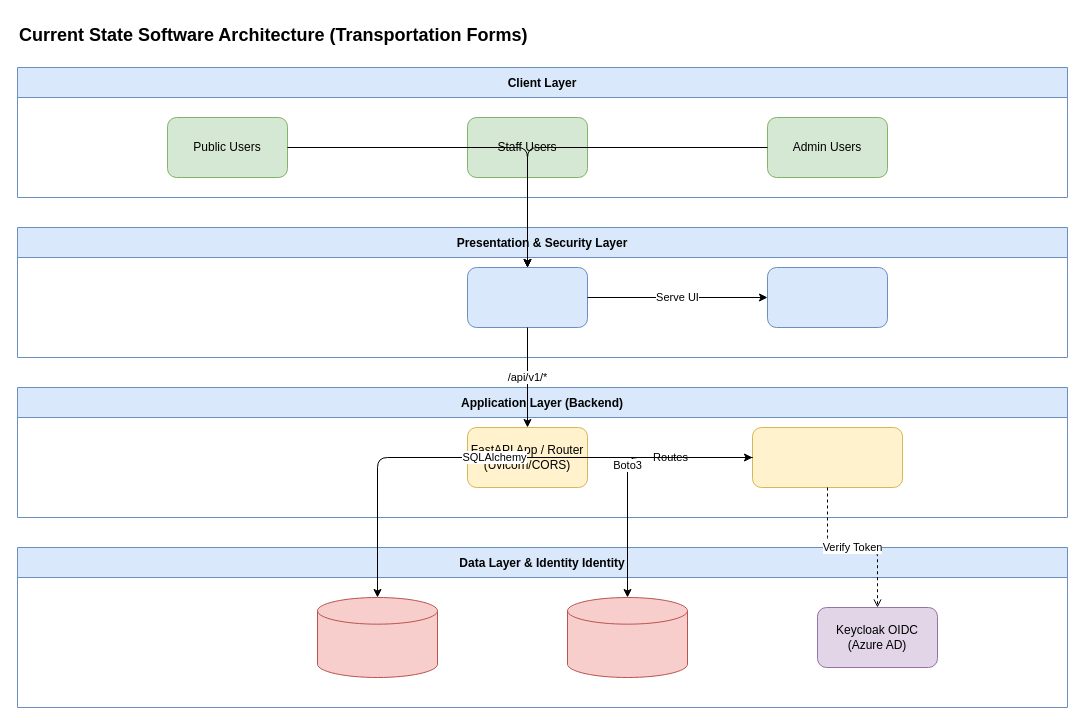
Some shapes in this 1085 by 725 pixel diagram are drawn without their labels. The shapes that lost their labels are listed below. From the top down, each one's centre as x and y in pixels, then its label:
At (x=527, y=297): "Caddy Proxy & WAF (Coraza)".
At (x=827, y=297): "Static UI Assets (HTML/jQuery/BS5)".
At (x=827, y=457): "Core Services (Auth, Forms, Workflow..)".
At (x=377, y=637): "PostgreSQL 16 (Crunchy DB)".
At (x=627, y=637): "S3 Storage".
